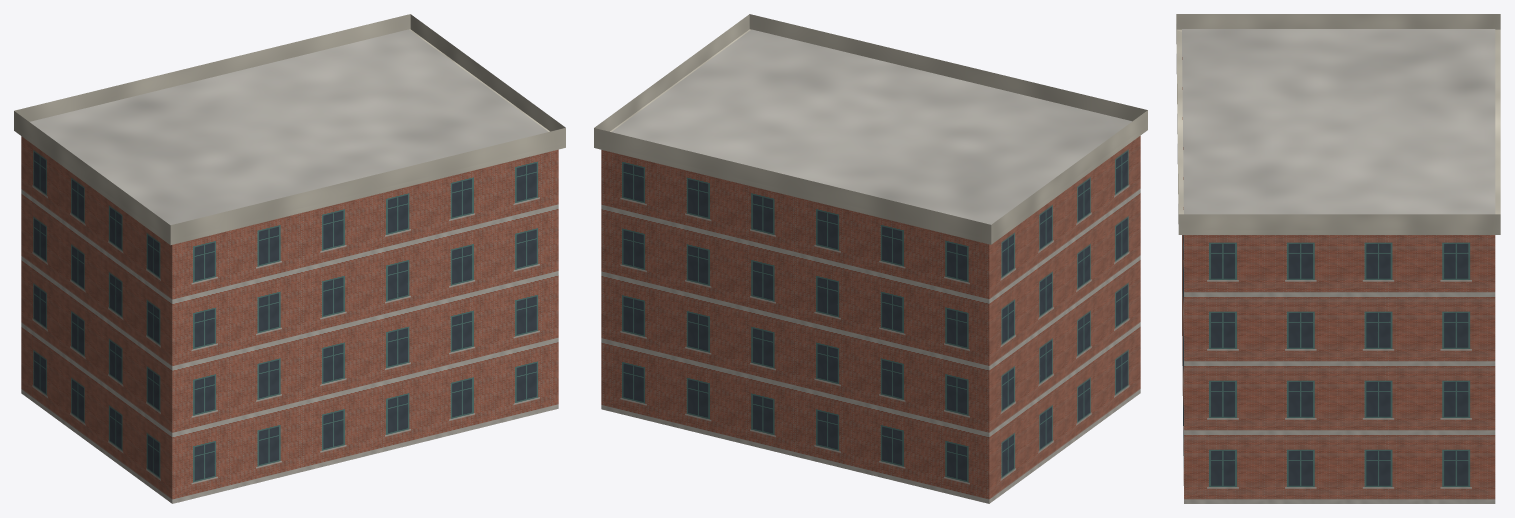
File: SM_MoloItalia_Edificio4P_LOD2.fbx
The picture shows the model from 3 angles, left to right: view 1: azimuth 30°, elevation 25°; view 2: azimuth 150°, elevation 25°; view 3: azimuth 270°, elevation 25°; orthographic projection. The views are drawn at different scales.
Visible parts, largest first — view 1: SM_MoloItalia_Edificio4P_LOD2; view 2: SM_MoloItalia_Edificio4P_LOD2; view 3: SM_MoloItalia_Edificio4P_LOD2.
Boxes of the visible parts, x1,y1,x2,y2 form: SM_MoloItalia_Edificio4P_LOD2: (14, 14, 565, 503); SM_MoloItalia_Edificio4P_LOD2: (594, 14, 1147, 503); SM_MoloItalia_Edificio4P_LOD2: (1176, 14, 1500, 503).
Size of the model in its own units: 2180 by 1490 by 1480.
Materials: 2 (2 with a texture image).
